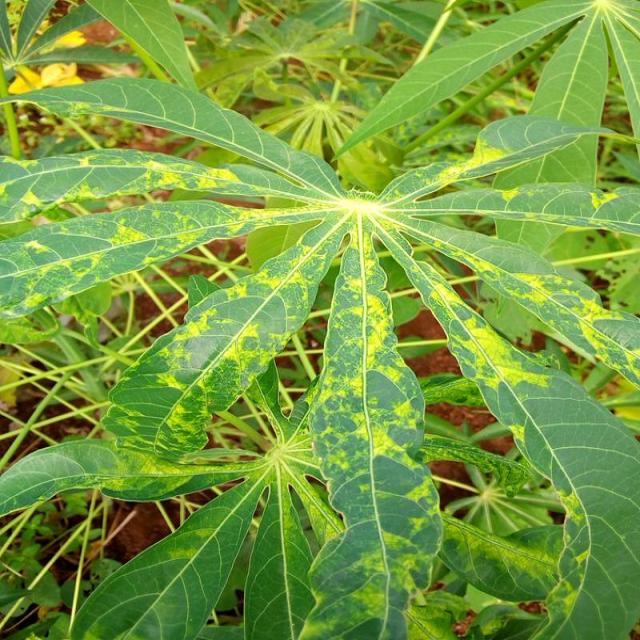Mosaico: (100, 132, 623, 568)
